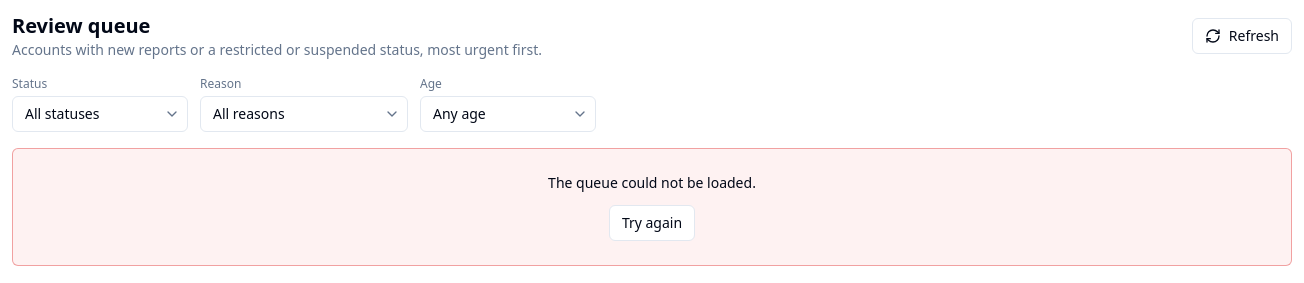
QueuePage › shows an error and retries
This screenshot has width=1304, height=283.
Expected: the message shows "The queue could not be loaded.", [548,173,756,192]
Click the button "Try again": (652, 223) [609,205,695,241]
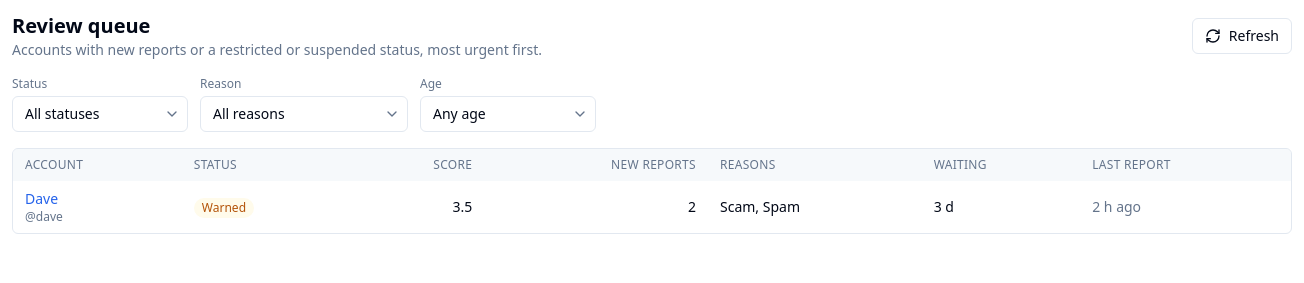
Expected: the link "Dave" is shown, [25,189,58,208]
